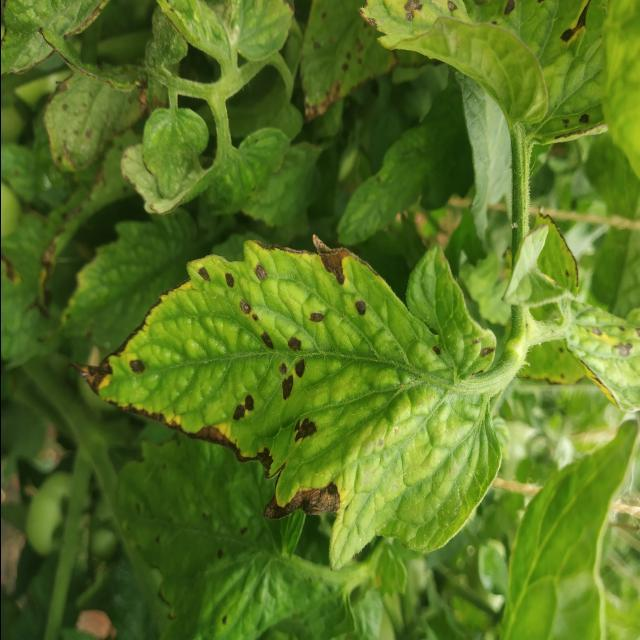Tomato mosaic virus leaf: (63, 225, 501, 528), (353, 0, 604, 150)
